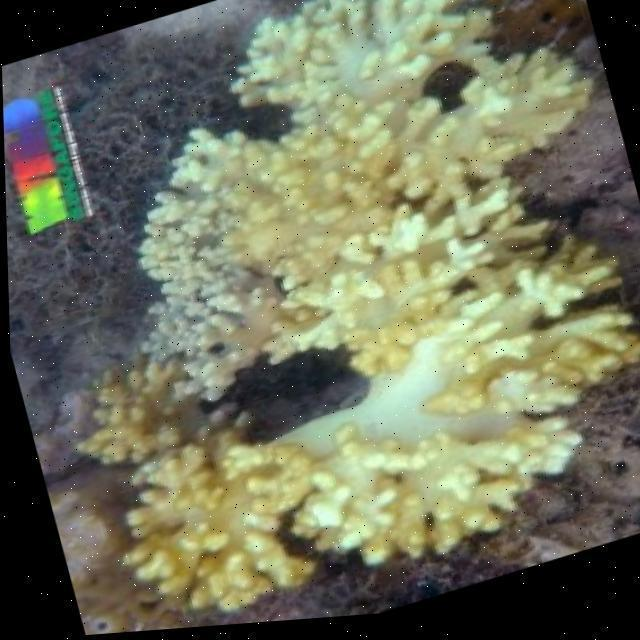Bleached Coral: (48, 200, 640, 638), (75, 0, 619, 363)
